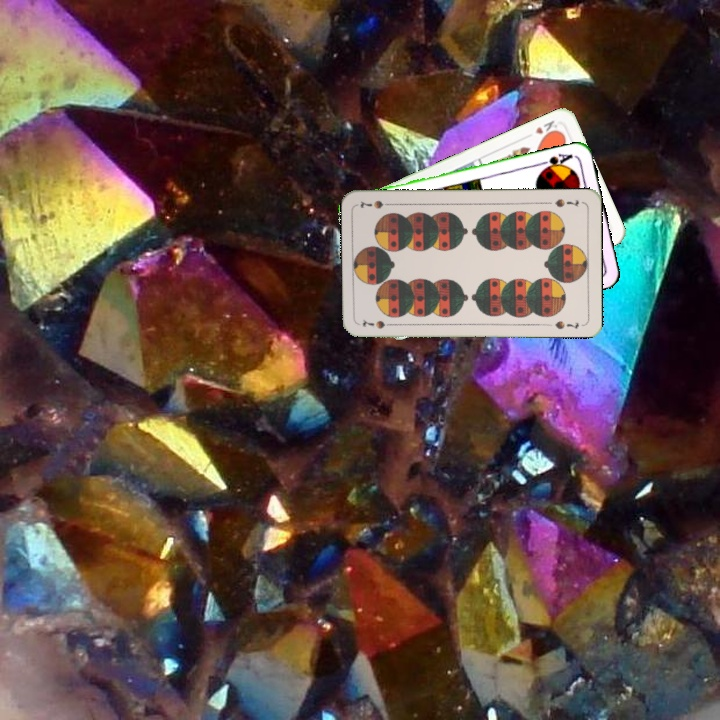HK: (531, 116, 561, 140)
S7: (359, 316, 397, 331), (551, 195, 581, 210)
SA: (536, 149, 575, 173)
